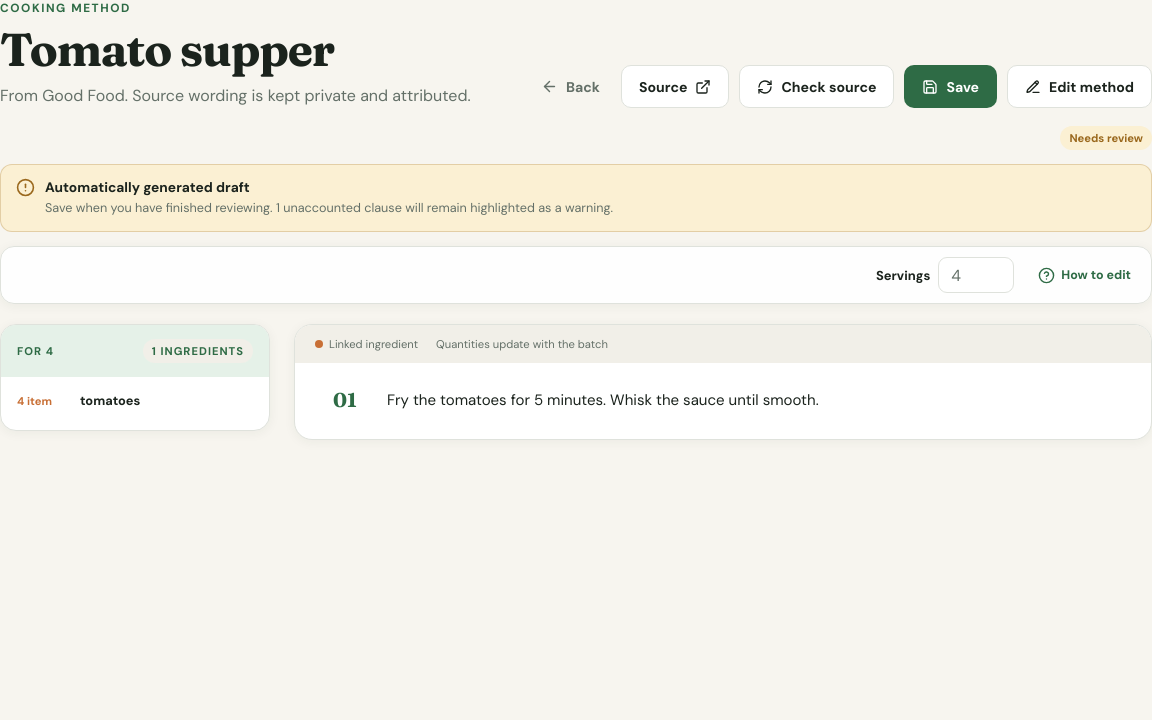
it: MethodPage › persists written-method notes when reviewing with an unaccounted clause
Expected: the heading "Tomato supper" is shown, x1=0 y1=21 x2=334 y2=78
Click the button "Edit method" at (1080, 87), box x1=1007 y1=65 x2=1151 y2=108
(page scrolled)
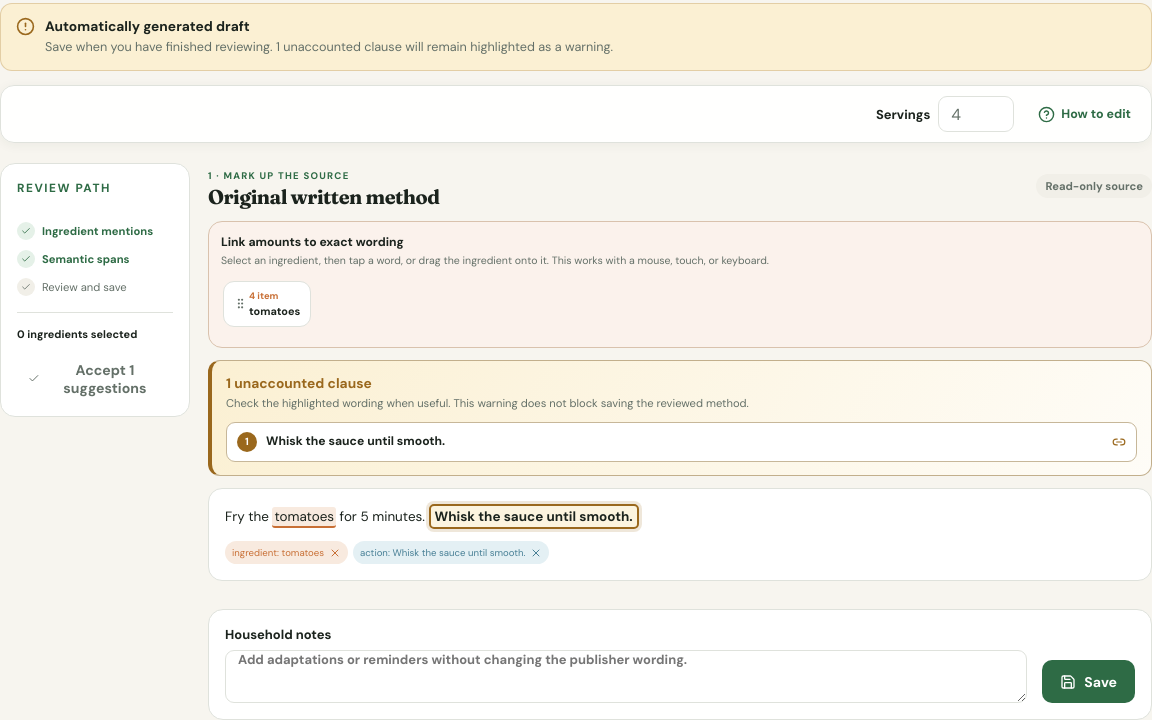
Type "Use the heavy pan." into the text box labelled "Household notes" at (626, 677), box x1=225 y1=650 x2=1027 y2=703
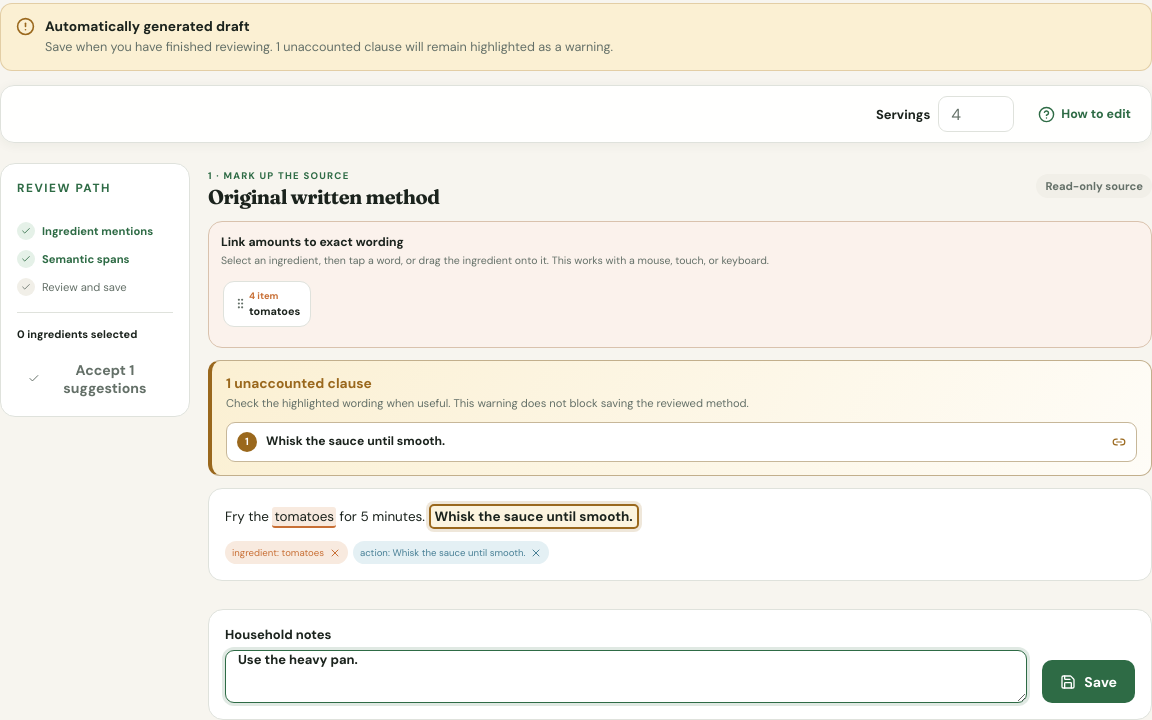
Click the button "Save" at (1089, 682), box x1=1042 y1=660 x2=1135 y2=703
(page scrolled)
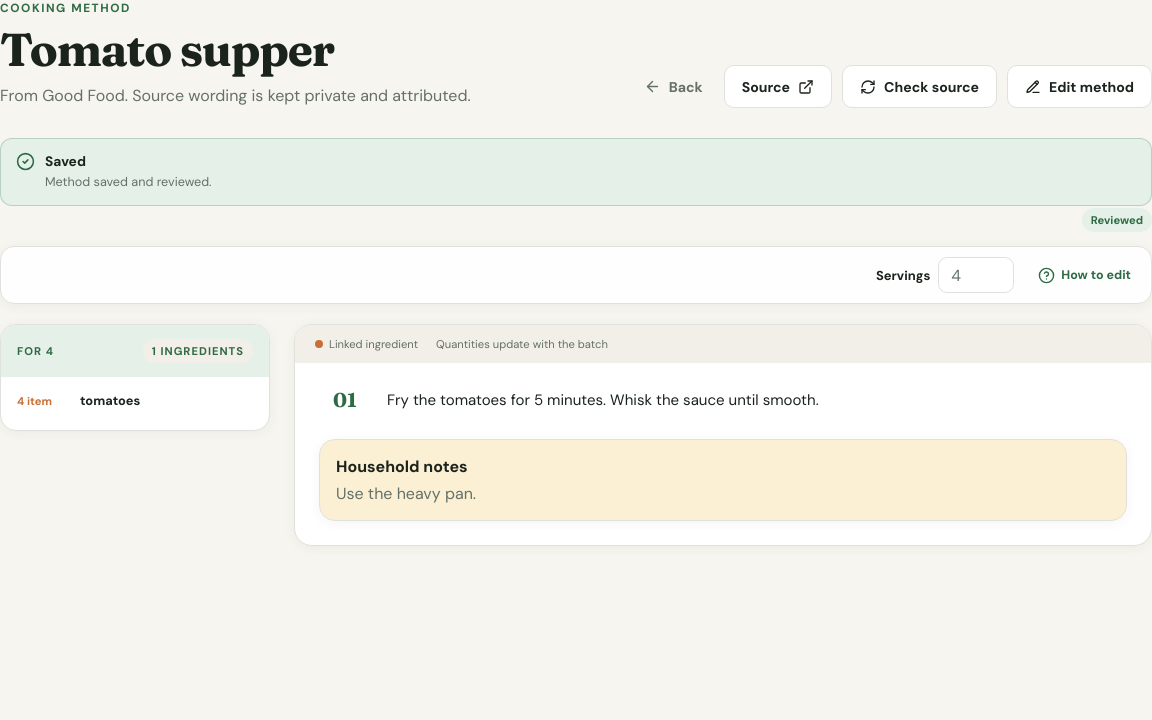
Now the text "Method saved and reviewed." is shown, box x1=45 y1=173 x2=212 y2=192
Now the text "Use the heavy pan." is shown, box x1=336 y1=483 x2=476 y2=504
